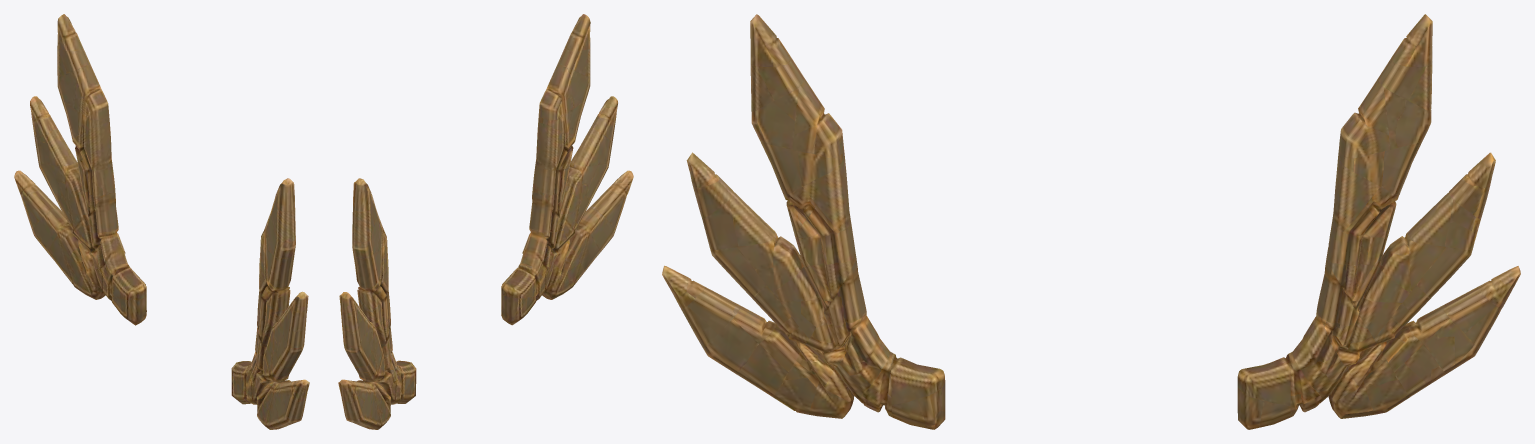
The picture shows the model from 3 angles, left to right: view 1: azimuth 30°, elevation 25°; view 2: azimuth 150°, elevation 25°; view 3: azimuth 270°, elevation 25°; orthographic projection. The views are drawn at different scales.
Parts seen in each view (by area): view 1: chassis; view 2: chassis; view 3: chassis.
Part boxes in pixels (box(x1,y1,x2,y2)): chassis: box(14, 14, 309, 429); chassis: box(338, 14, 633, 429); chassis: box(662, 14, 1520, 429).
Bounding box in the file's own units: 0.0822 × 0.4646 × 0.8998.
1 material, 1 textured.
